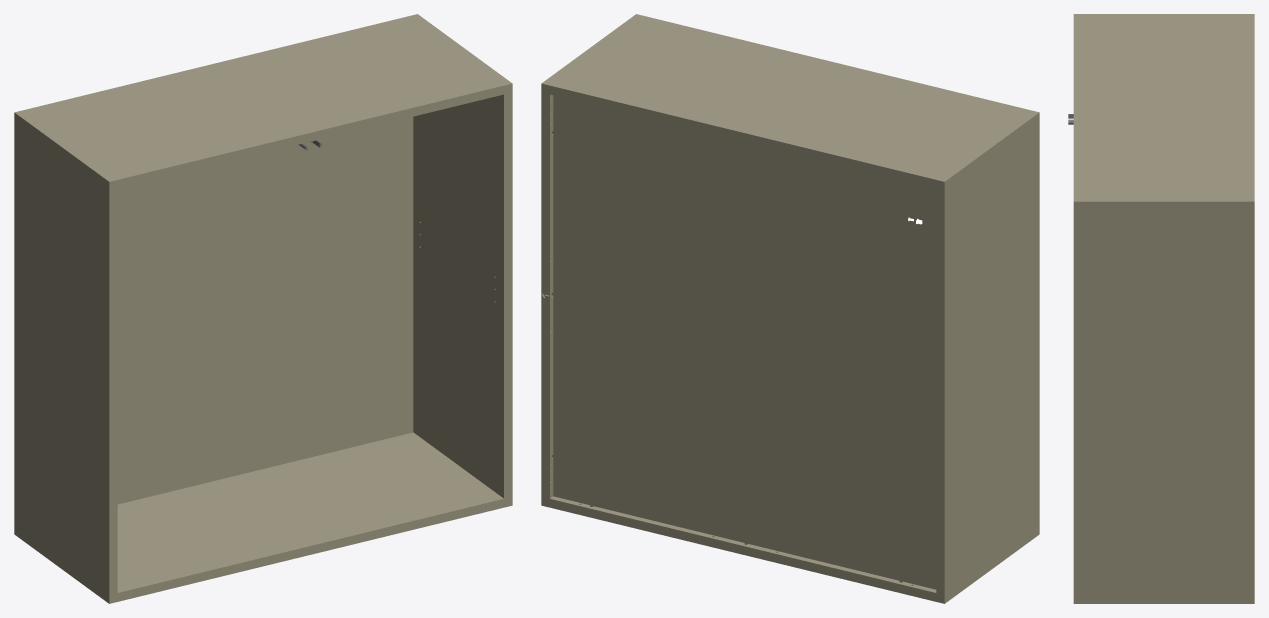
The model's file is Etapes_8.glb.
The picture shows the model from 3 angles, left to right: view 1: azimuth 30°, elevation 25°; view 2: azimuth 150°, elevation 25°; view 3: azimuth 270°, elevation 25°; orthographic projection. The views are drawn at different scales.
Parts seen in each view (by area): view 1: Cube.001; view 2: Cube.001; view 3: Cube.001.
Boxes of the visible parts, box(x1,y1,x2,y2) form: Cube.001: box(14, 14, 512, 603); Cube.001: box(541, 14, 1039, 603); Cube.001: box(1068, 14, 1254, 603).
Size of the model in its own units: 0.76 by 0.76 by 0.3192.
